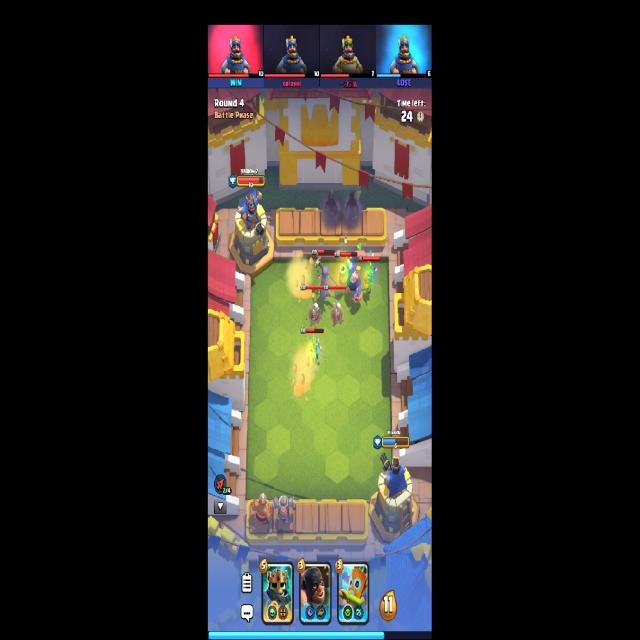card_dart_goblin: (337, 560, 370, 626)
card_executioner: (299, 560, 331, 626)
card_skeleton_king: (262, 561, 293, 624)
dart_goblin: (362, 270, 375, 294)
goblin: (310, 338, 323, 361)
goblin_machine: (272, 495, 296, 523)
monk: (249, 492, 273, 526)
royal_giant: (337, 250, 362, 304)
skeleton: (334, 302, 341, 319), (312, 301, 319, 318)
witch: (315, 258, 339, 297)
